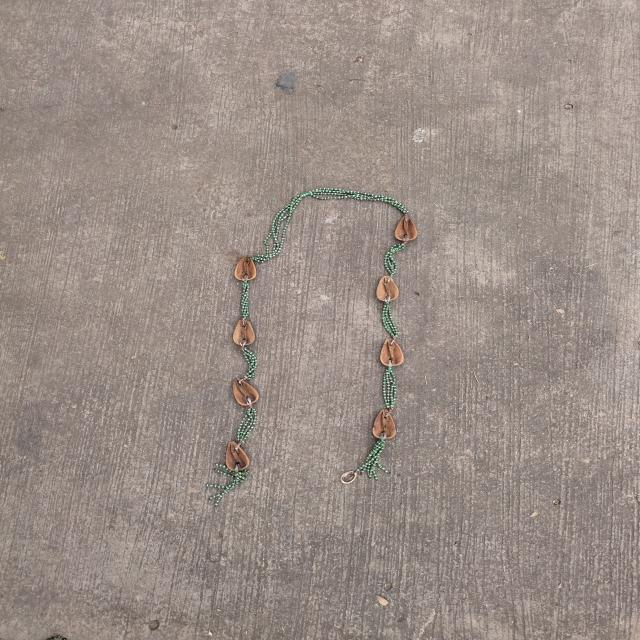faceup: (216, 368, 275, 412), (210, 436, 266, 478), (364, 404, 410, 448), (366, 267, 412, 310), (223, 251, 271, 288), (372, 334, 418, 372), (388, 209, 430, 247), (222, 318, 270, 350)
